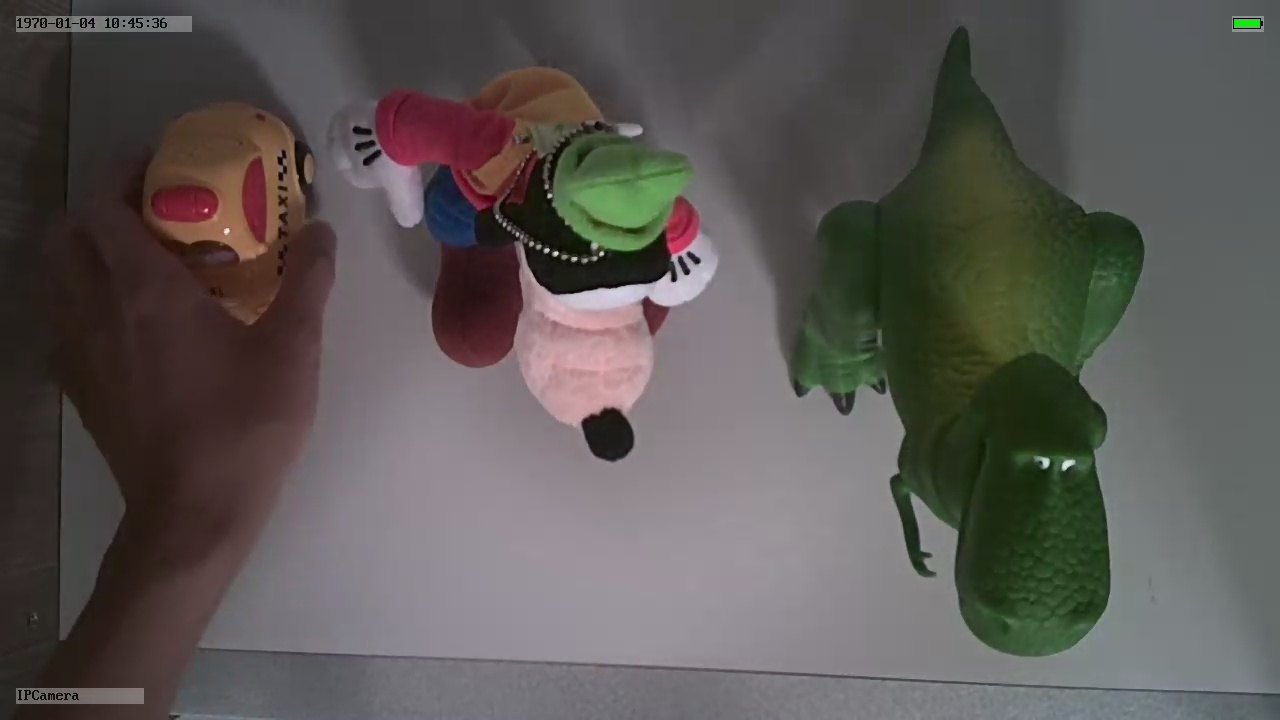goofy: (331, 66, 718, 462)
rex: (792, 101, 1145, 655)
